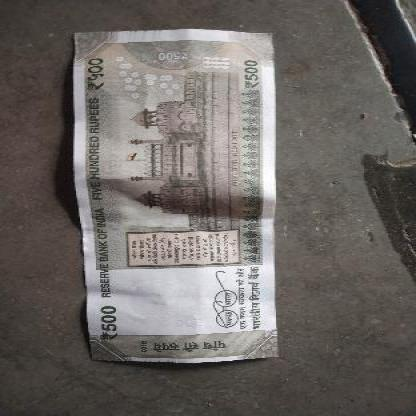New500Back: (75, 33, 273, 360)
